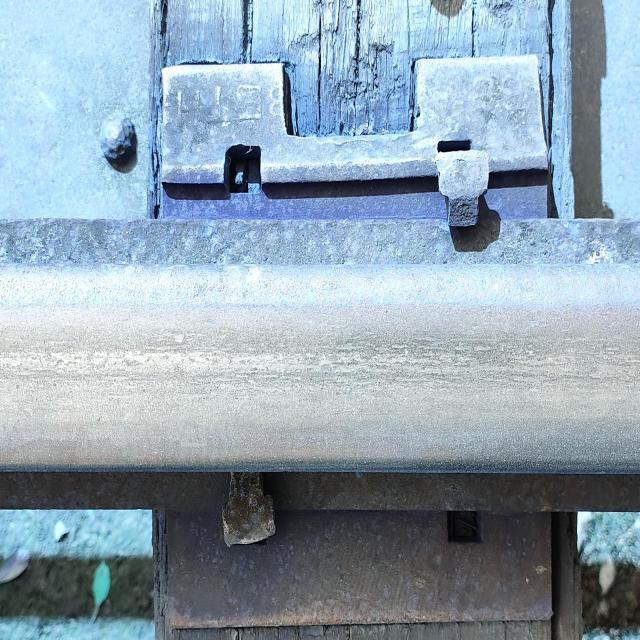Missing Dogscrew: (223, 144, 261, 193), (447, 511, 481, 542)
